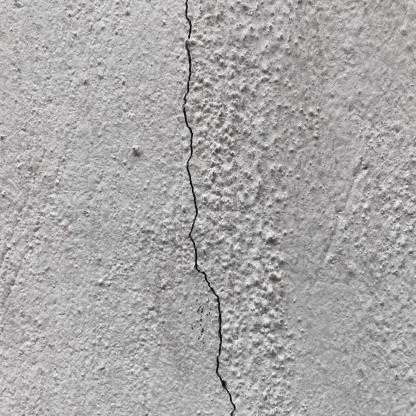crack: (183, 1, 236, 414)
